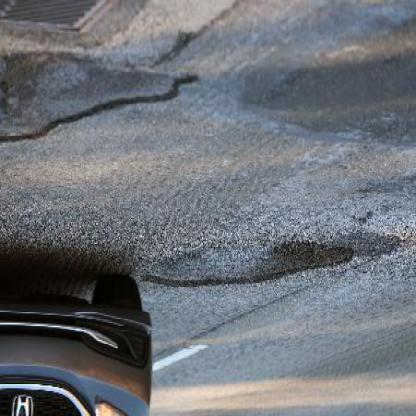pothole: (1, 52, 200, 150), (142, 238, 355, 294)
